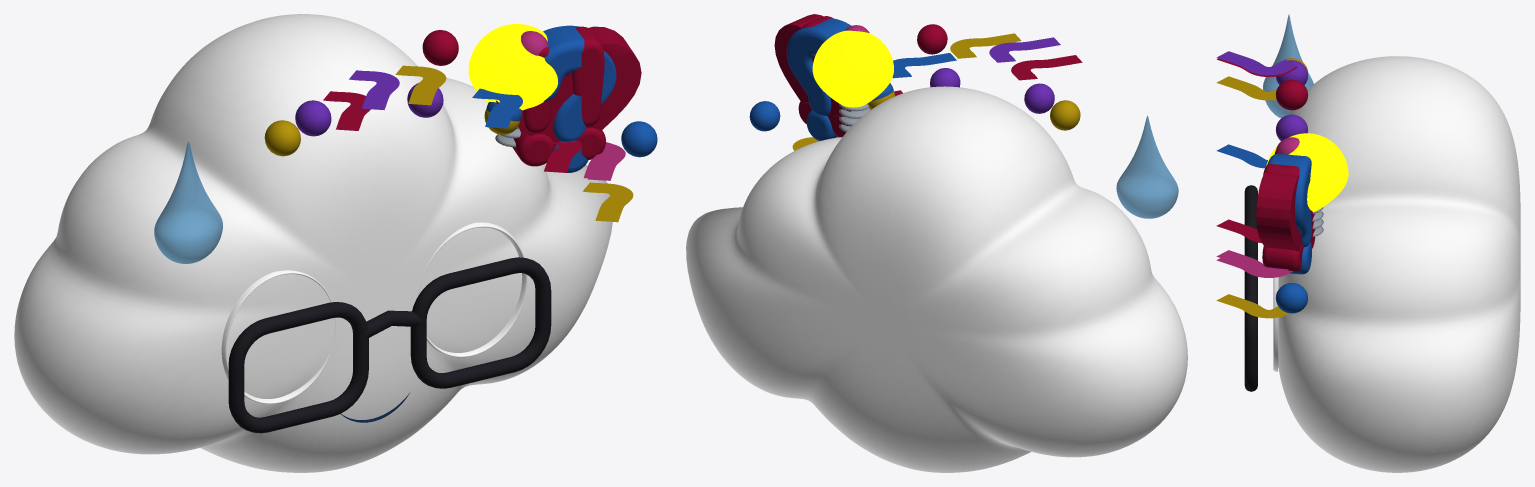
Rendered from dreamy.opt.glb.
The picture shows the model from 3 angles, left to right: view 1: azimuth 30°, elevation 25°; view 2: azimuth 150°, elevation 25°; view 3: azimuth 270°, elevation 25°; orthographic projection. The views are drawn at different scales.
Parts seen in each view (by area): view 1: dreamy_body, PROP_glasses, PROP_bulb_glass, PROP_exclaim, PROP_sweat_drop, PROP_question, PROP_heart, Eye_L_sculpted_lid_rim, Eye_R_sculpted_lid_rim, PROP_confetti_11, PROP_confetti_1, PROP_confetti_7 (+8 smaller); view 2: dreamy_body, PROP_bulb_glass, PROP_sweat_drop, PROP_question, PROP_heart, PROP_confetti_7, PROP_confetti_15, PROP_confetti_1, PROP_confetti_2, PROP_confetti_16, PROP_confetti_4, PROP_confetti_10 (+2 smaller); view 3: dreamy_body, PROP_heart, PROP_bulb_glass, PROP_glasses, PROP_question, PROP_exclaim, PROP_sweat_drop, PROP_confetti_7, PROP_confetti_4, PROP_confetti_10, PROP_confetti_11, PROP_confetti_3 (+6 smaller).
Boxes of the visible parts, <box> form: dreamy_body: <box>14,14,612,472</box>; PROP_glasses: <box>228,257,551,433</box>; PROP_bulb_glass: <box>468,24,557,110</box>; PROP_exclaim: <box>512,26,605,166</box>; PROP_sweat_drop: <box>154,141,222,263</box>; PROP_question: <box>543,25,616,172</box>; PROP_heart: <box>496,26,641,147</box>; Eye_L_sculpted_lid_rim: <box>221,270,336,404</box>; Eye_R_sculpted_lid_rim: <box>417,222,527,357</box>; PROP_confetti_11: <box>582,182,633,222</box>; PROP_confetti_1: <box>395,65,446,105</box>; PROP_confetti_7: <box>349,70,399,109</box>; dreamy_body: <box>686,86,1187,472</box>; PROP_bulb_glass: <box>812,30,893,107</box>; PROP_sweat_drop: <box>1116,115,1178,218</box>; PROP_question: <box>786,18,851,140</box>; PROP_heart: <box>774,14,850,124</box>; PROP_confetti_7: <box>989,37,1060,62</box>; PROP_confetti_15: <box>1011,55,1082,80</box>; PROP_confetti_1: <box>950,33,1021,58</box>; PROP_confetti_2: <box>1024,83,1054,113</box>; PROP_confetti_16: <box>1050,100,1080,130</box>; PROP_confetti_4: <box>749,101,780,131</box>; PROP_confetti_10: <box>917,24,947,54</box>; dreamy_body: <box>1278,56,1520,472</box>; PROP_heart: <box>1256,172,1314,251</box>; PROP_bulb_glass: <box>1266,133,1348,211</box>; PROP_glasses: <box>1244,185,1257,391</box>; PROP_question: <box>1267,153,1311,274</box>; PROP_exclaim: <box>1262,149,1315,271</box>; PROP_sweat_drop: <box>1263,14,1313,118</box>; PROP_confetti_7: <box>1216,51,1297,75</box>; PROP_confetti_4: <box>1275,283,1307,313</box>; PROP_confetti_10: <box>1276,79,1307,110</box>; PROP_confetti_11: <box>1216,294,1289,318</box>; PROP_confetti_3: <box>1216,250,1288,274</box>.
Bounding box in the file's own units: 3.75 × 2.85 × 2.02.
